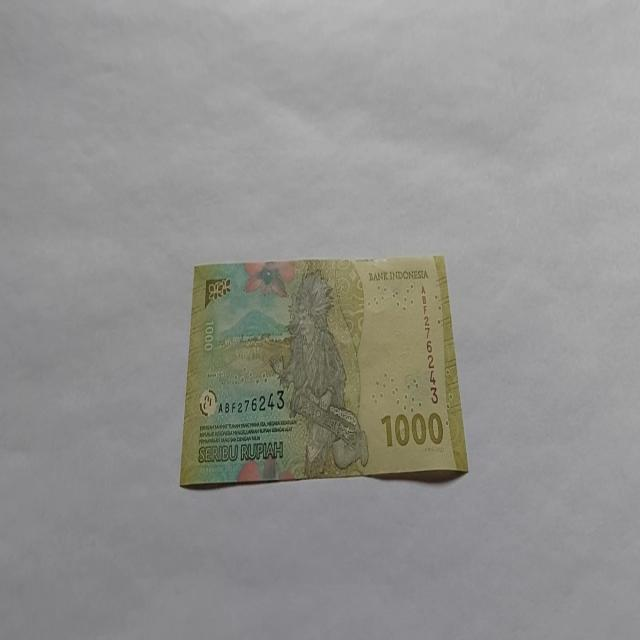seribu rupiah kertas: (179, 253, 469, 488)
